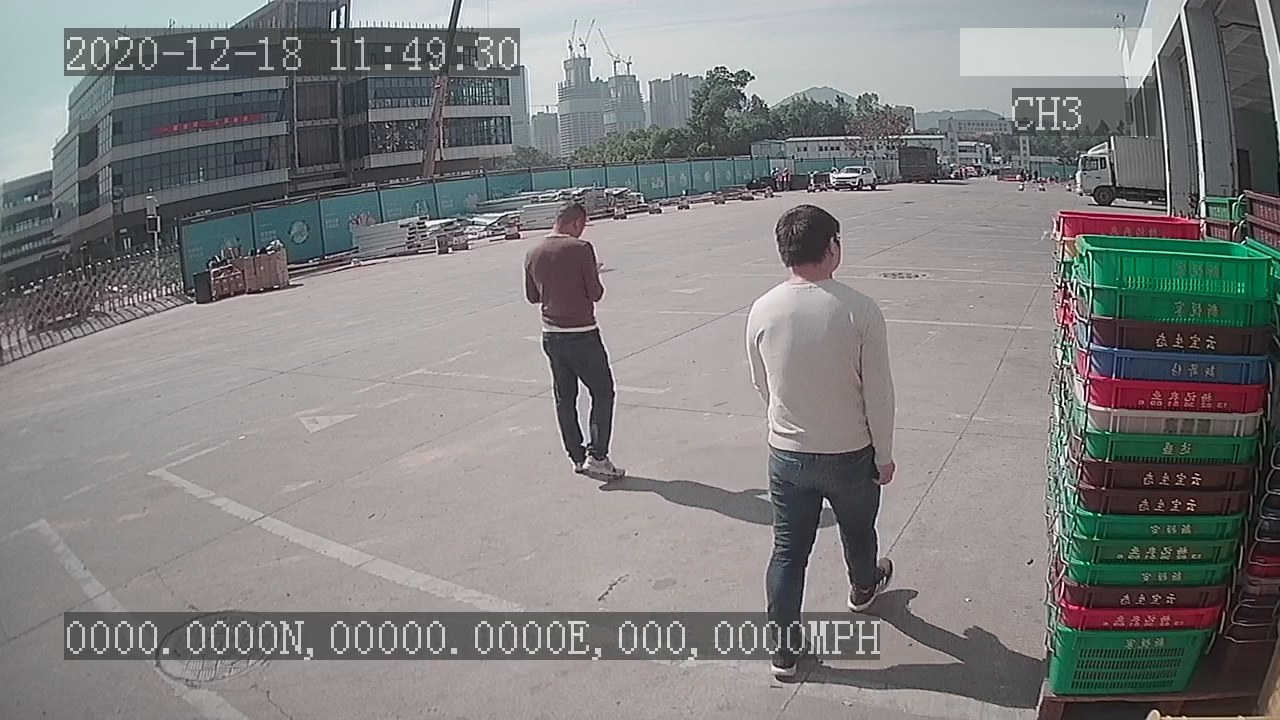person: (517, 195, 633, 488)
